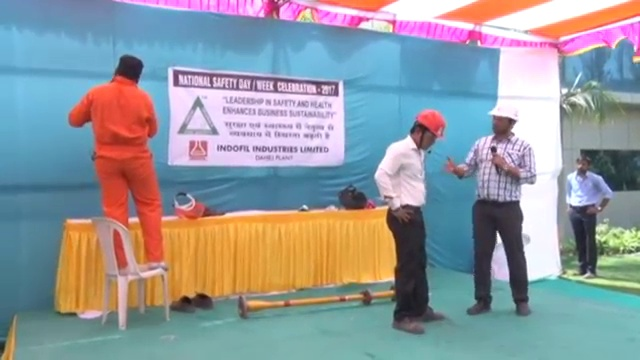helmet: (414, 109, 448, 139), (485, 100, 521, 121)
helmet_off: (114, 53, 144, 84), (575, 152, 593, 176)
helmet_on: (409, 108, 448, 156), (483, 100, 523, 141)
person: (66, 53, 170, 271), (451, 101, 537, 318), (372, 109, 449, 335), (561, 152, 612, 278)
